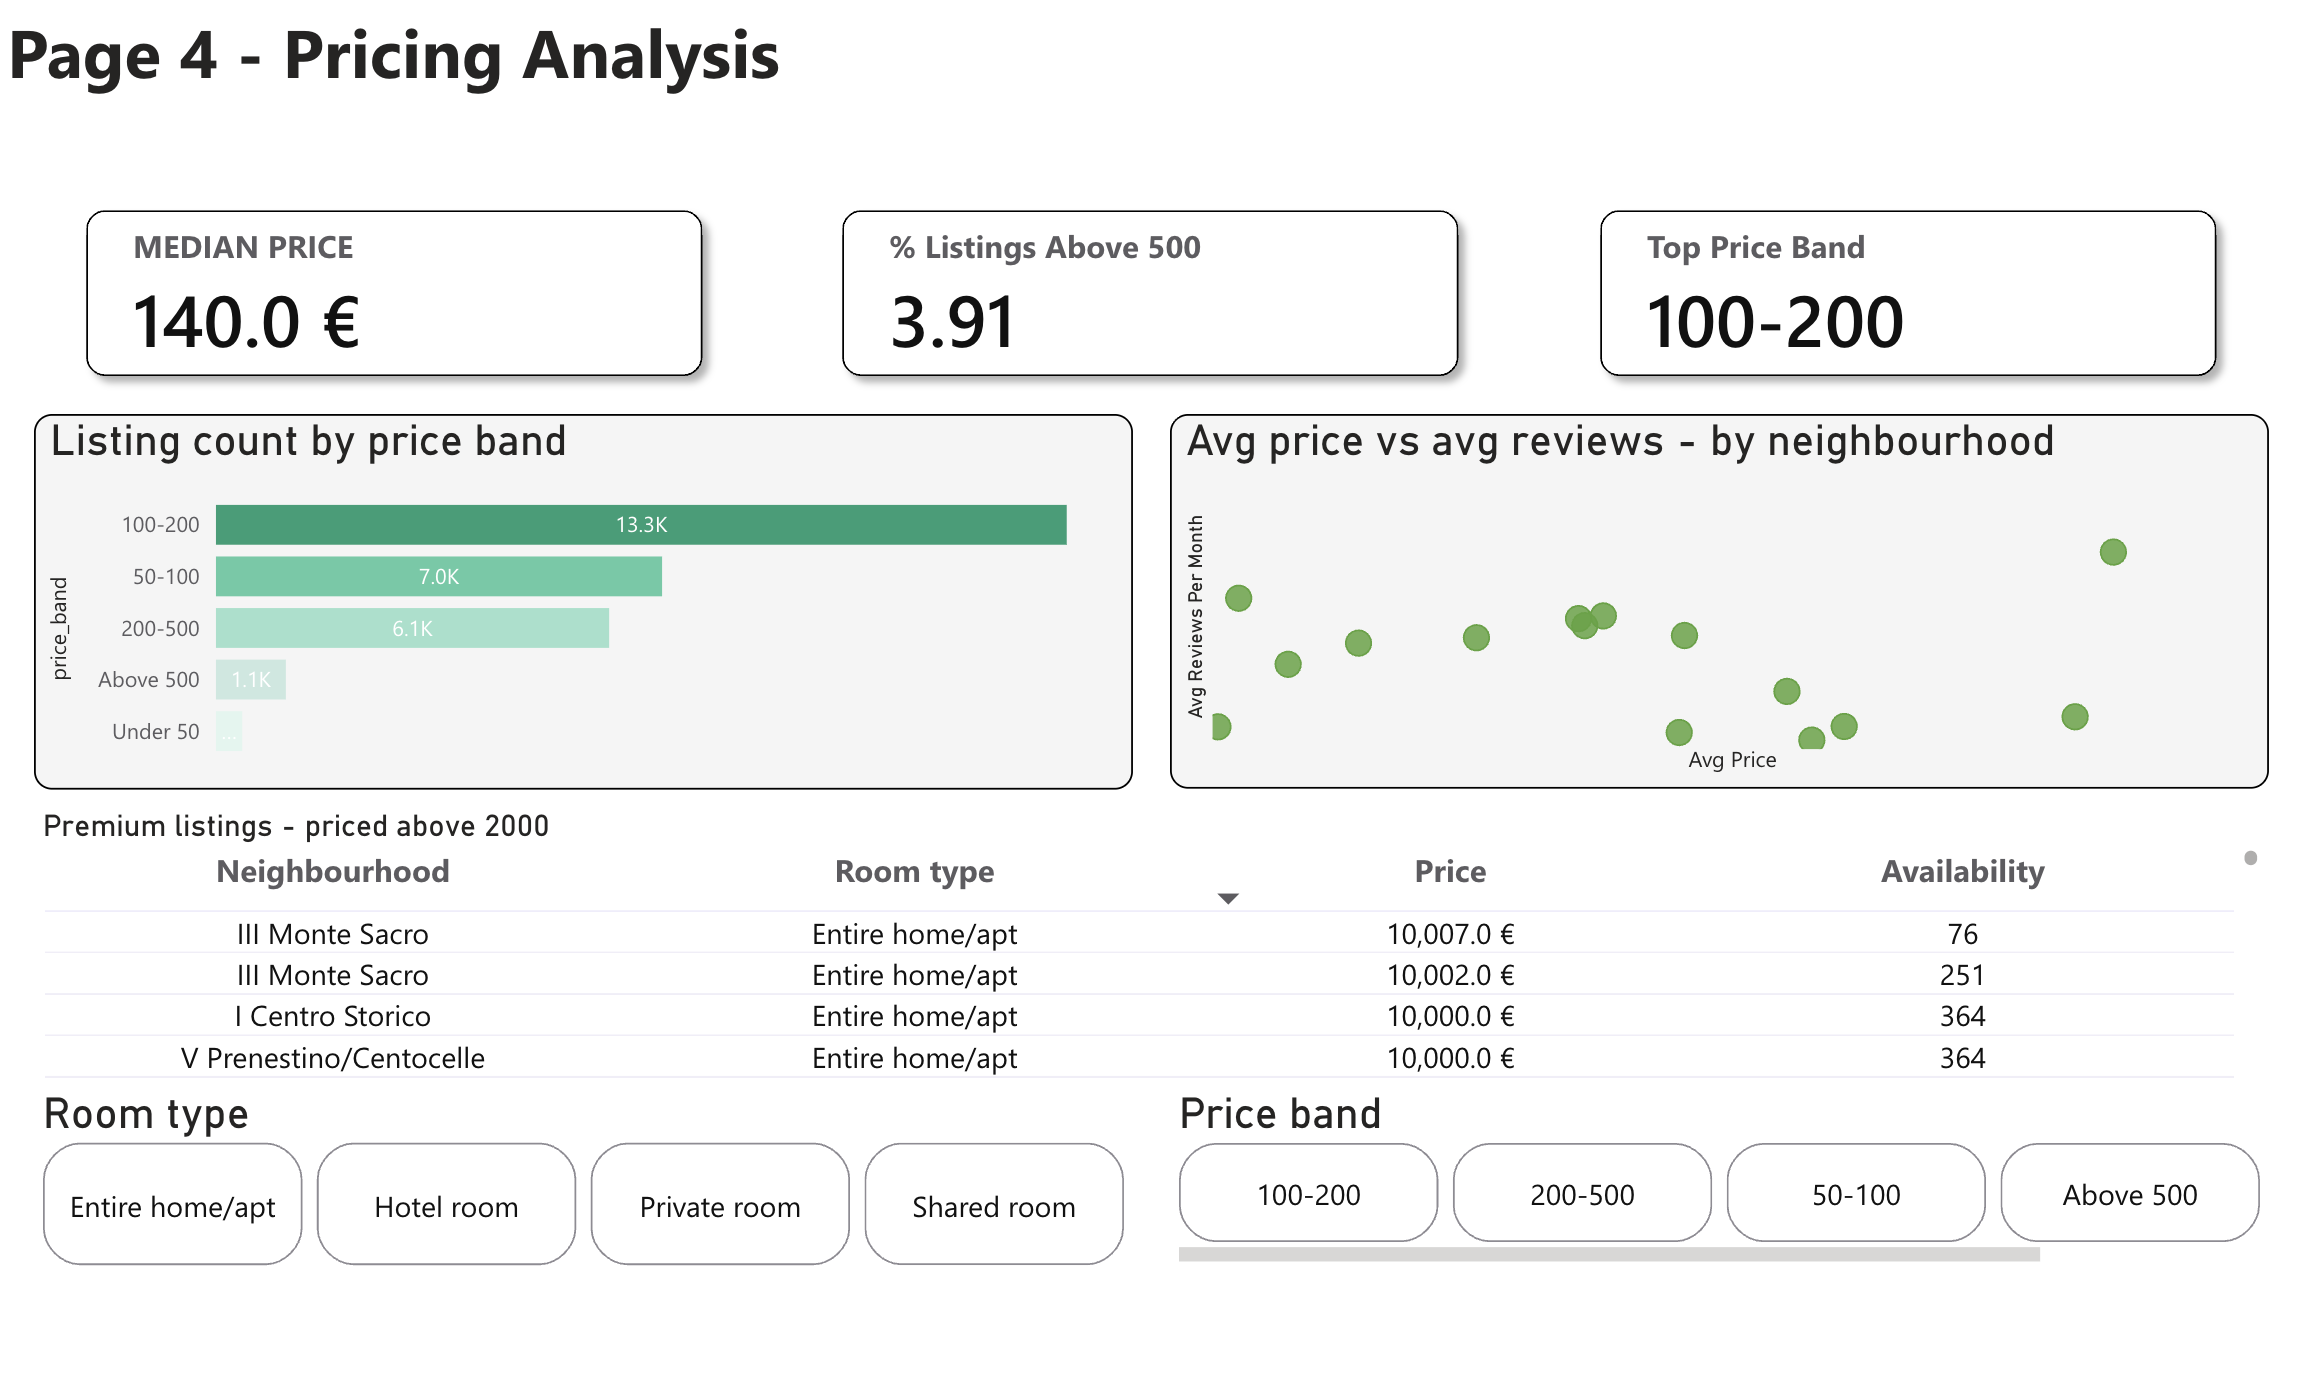

What the dashboard file says about the page in this screenshot:
{"tool":"powerbi","page":{"name":"Pricing Analysis","canvas":[1280,720],"ordinal":3},"visuals":[{"type":"textbox","box":[0,0,1280,68.3],"z":0},{"type":"cardVisual","fields":{"Data":["AllMeasures.Median Price"]},"box":[20,90,400,150],"z":1000},{"type":"cardVisual","fields":{"Data":["AllMeasures.% Listings Above 500"]},"box":[440,90,400,150],"z":2000},{"type":"cardVisual","fields":{"Data":["AllMeasures.Top Price Band"]},"box":[860,90,400,150],"z":3000},{"type":"barChart","title":"Listing count by price band","fields":{"Category":["airbnb_data.price_band"],"Y":["AllMeasures.Total Listings"]},"box":[20,231.7,610,208.3],"z":4000},{"type":"scatterChart","title":"Avg price vs avg reviews - by neighbourhood","fields":{"X":["AllMeasures.Avg Price"],"Y":["AllMeasures.Avg Reviews Per Month"],"Category":["airbnb_data.neighbourhood"]},"box":[650,232.2,610,208],"z":5000},{"type":"tableEx","title":"Premium listings - priced above 2000","fields":{"Values":["airbnb_data.neighbourhood","airbnb_data.room_type","airbnb_data.price","airbnb_data.availability_365"]},"box":[20,453.3,1240,154],"z":6000},{"type":"advancedSlicerVisual","fields":{"Values":["airbnb_data.room_type"]},"box":[20,610,610,100],"z":7000},{"type":"advancedSlicerVisual","fields":{"Values":["airbnb_data.price_band"]},"box":[650,610,610,100],"z":8000}]}

Visuals, with their boxes on the page's 1280x720 design canvas (x1, y1, x2, y2). These are canvas units, not pixel positions in the 2300x1392 screenshot, which may show the page scaled, cropped or inside an application window:
textbox: x1=0 y1=0 x2=1280 y2=68
cardVisual - AllMeasures.Median Price: x1=20 y1=90 x2=420 y2=240
cardVisual - AllMeasures.% Listings Above 500: x1=440 y1=90 x2=840 y2=240
cardVisual - AllMeasures.Top Price Band: x1=860 y1=90 x2=1260 y2=240
"Listing count by price band" barChart: x1=20 y1=232 x2=630 y2=440
"Avg price vs avg reviews - by neighbourhood" scatterChart: x1=650 y1=232 x2=1260 y2=440
"Premium listings - priced above 2000" tableEx: x1=20 y1=453 x2=1260 y2=607
advancedSlicerVisual - airbnb_data.room_type: x1=20 y1=610 x2=630 y2=710
advancedSlicerVisual - airbnb_data.price_band: x1=650 y1=610 x2=1260 y2=710
